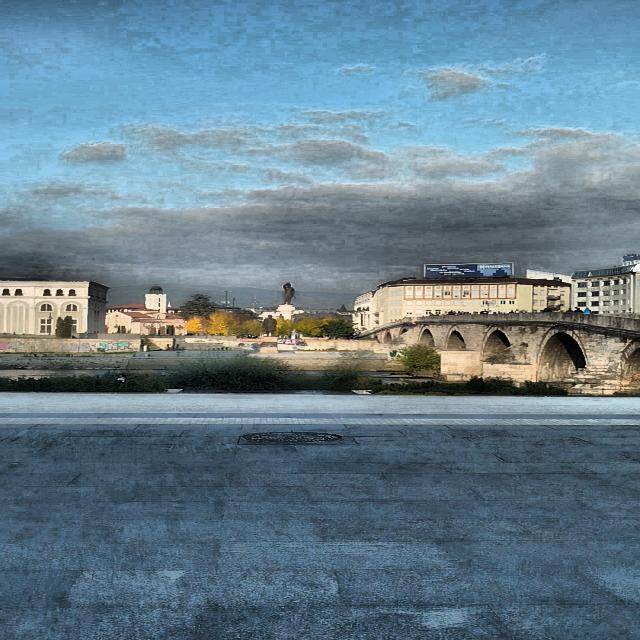Philip II of Macedonia: (278, 279, 298, 322)
stone bridge: (347, 311, 640, 391)
